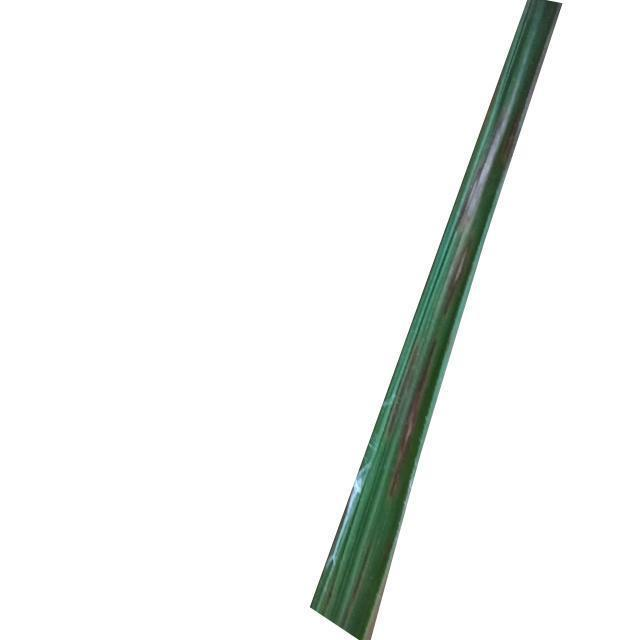Bacterial_Leaf_Blight: (378, 328, 445, 516), (450, 95, 517, 243), (437, 229, 478, 321), (497, 106, 526, 172)
